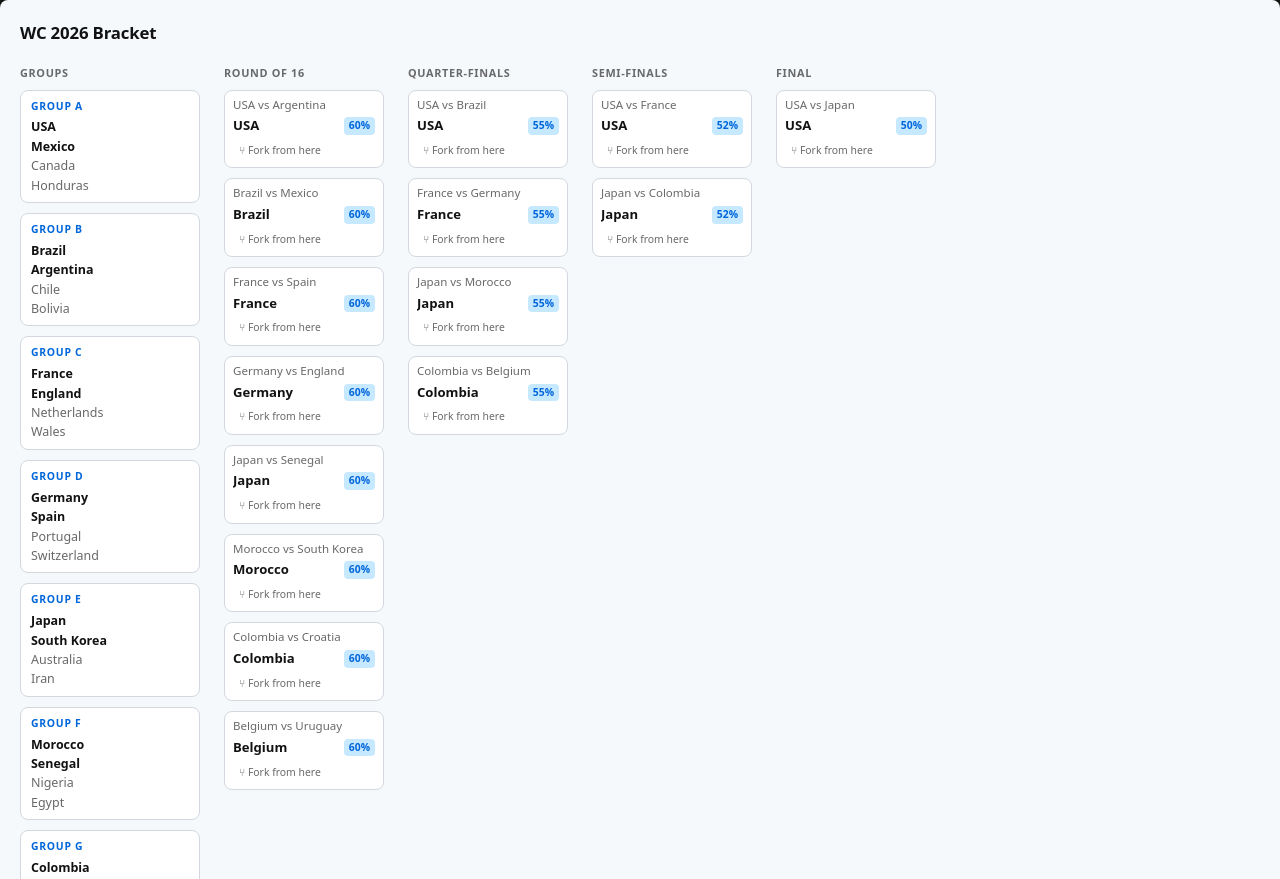
BracketFork — fork picker opens › opens a picker showing both teams when "Fork from here" is clicked on a R16 slot
# First R16 match: USA vs Argentina
Click the button with aria-label "Fork from here: USA vs Argentina".
click(280, 150)  # box [233,140,327,161]
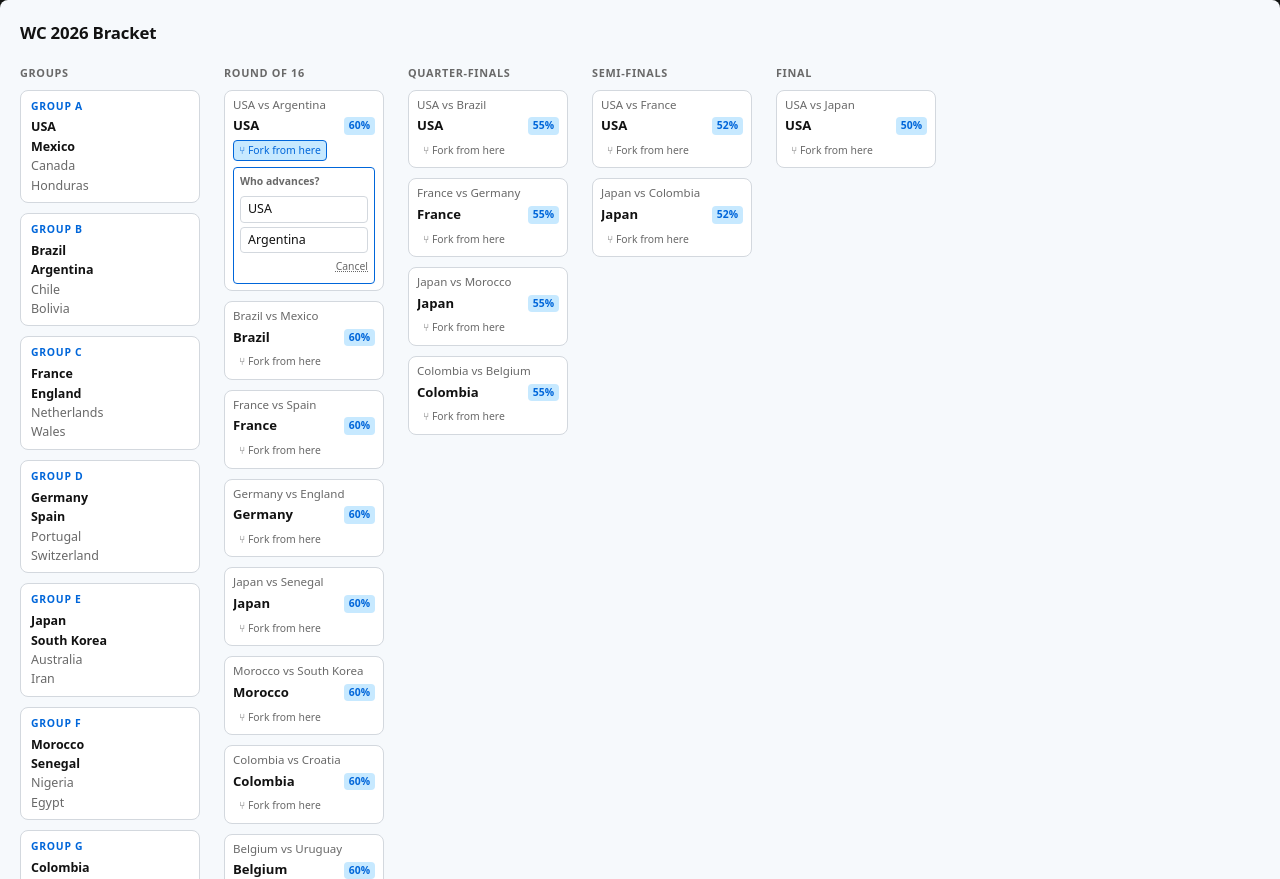
Now the element named "Pick winner for USA vs Argentina" is shown, box [233,167,375,284]
Now the button "USA" is shown, box [240,196,368,223]
Now the button "Argentina" is shown, box [240,227,368,253]
